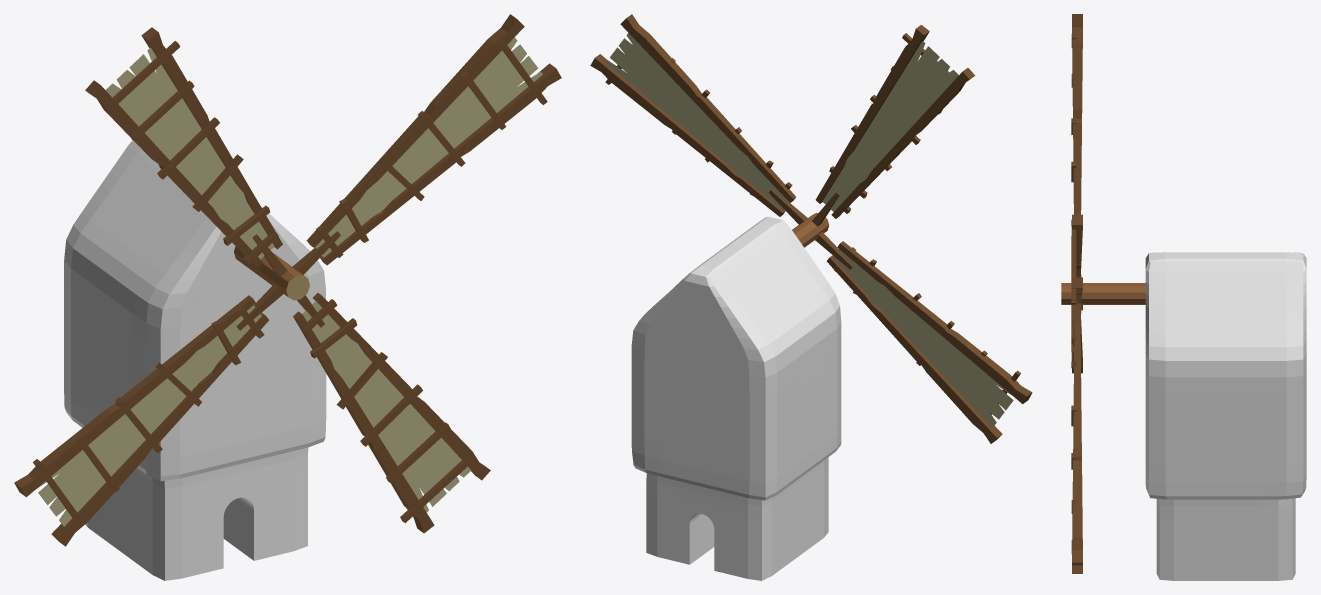
Rendered from windmill.fbx.
3 renders of one model, left to right at view 1: azimuth 30°, elevation 25°; view 2: azimuth 150°, elevation 25°; view 3: azimuth 270°, elevation 25°, orthographic. The views are drawn at different scales.
Visible parts, largest first — view 1: Cube, Mill_Blades; view 2: Cube, Mill_Blades; view 3: Cube, Mill_Blades.
Part boxes in pixels (x1=…): Cube: x1=64, y1=140, x2=326, y2=580; Mill_Blades: x1=14, y1=14, x2=561, y2=546; Cube: x1=631, y1=216, x2=841, y2=580; Mill_Blades: x1=590, y1=14, x2=1032, y2=443; Cube: x1=1145, y1=252, x2=1306, y2=580; Mill_Blades: x1=1061, y1=14, x2=1145, y2=573.
Size of the model in its own units: 270 by 554 by 590.
